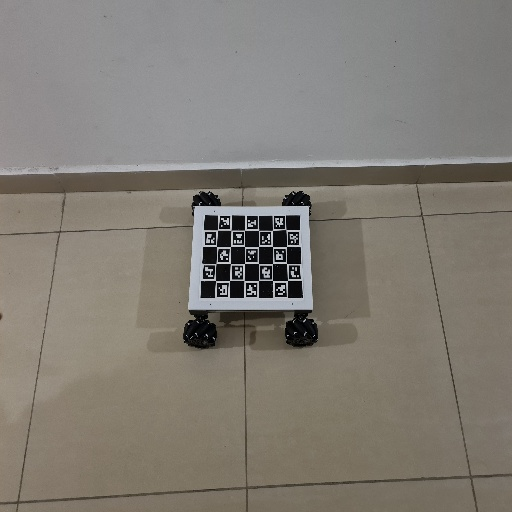Omniwheel: (183, 190, 319, 352)
